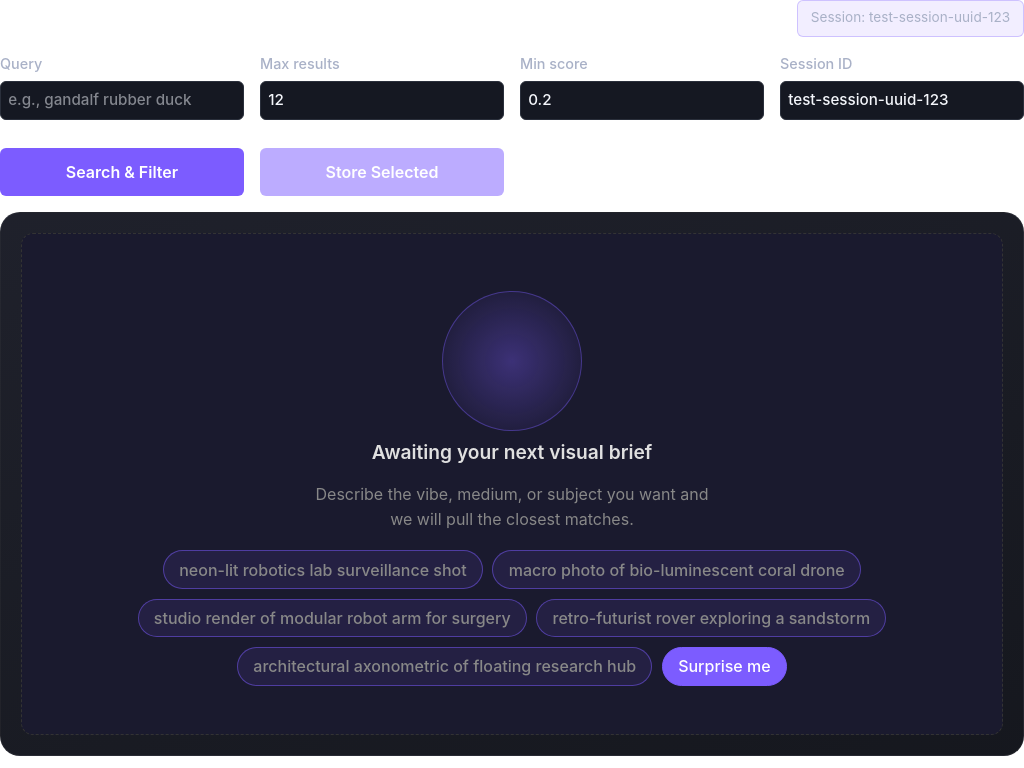
it: Gallery Tab › Search Workflow › handles search error
The image size is (1024, 768).
Type "test search" into the field with placeholder "e.g., gandalf rubber duck" at (122, 100), box x1=0 y1=80 x2=244 y2=120
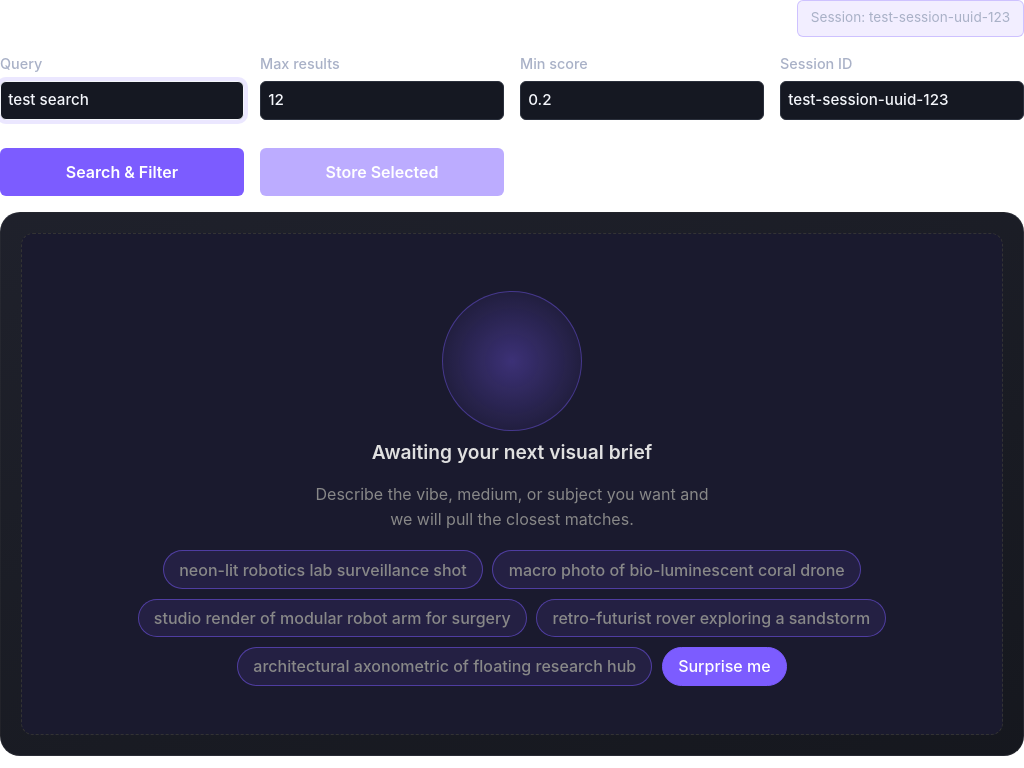
Click the button "Search & Filter" at (122, 172), box x1=0 y1=148 x2=244 y2=196
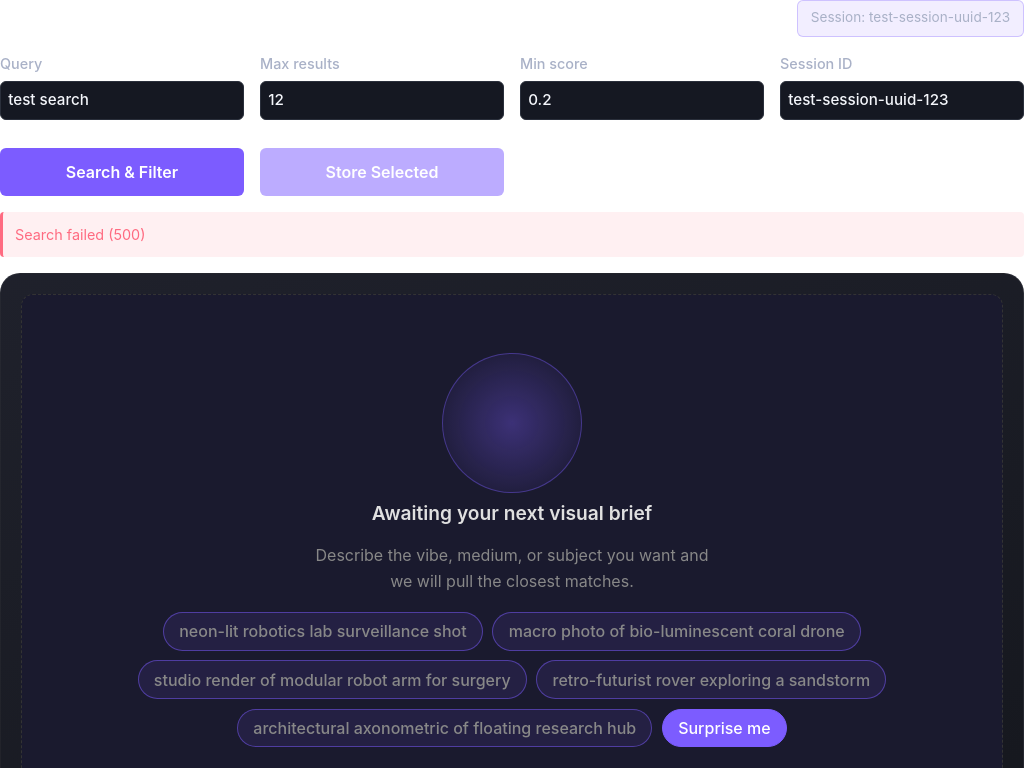
Expected: the text "Search failed (500)" is shown, x1=0 y1=212 x2=1023 y2=257
